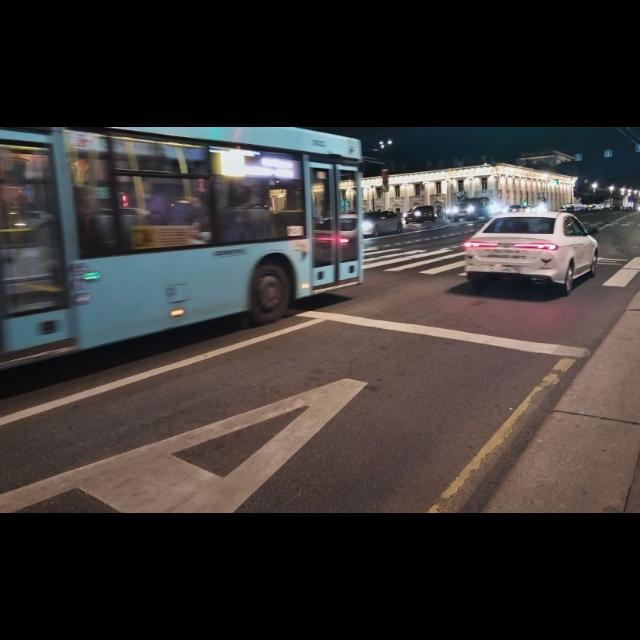road: (0, 259, 639, 512)
